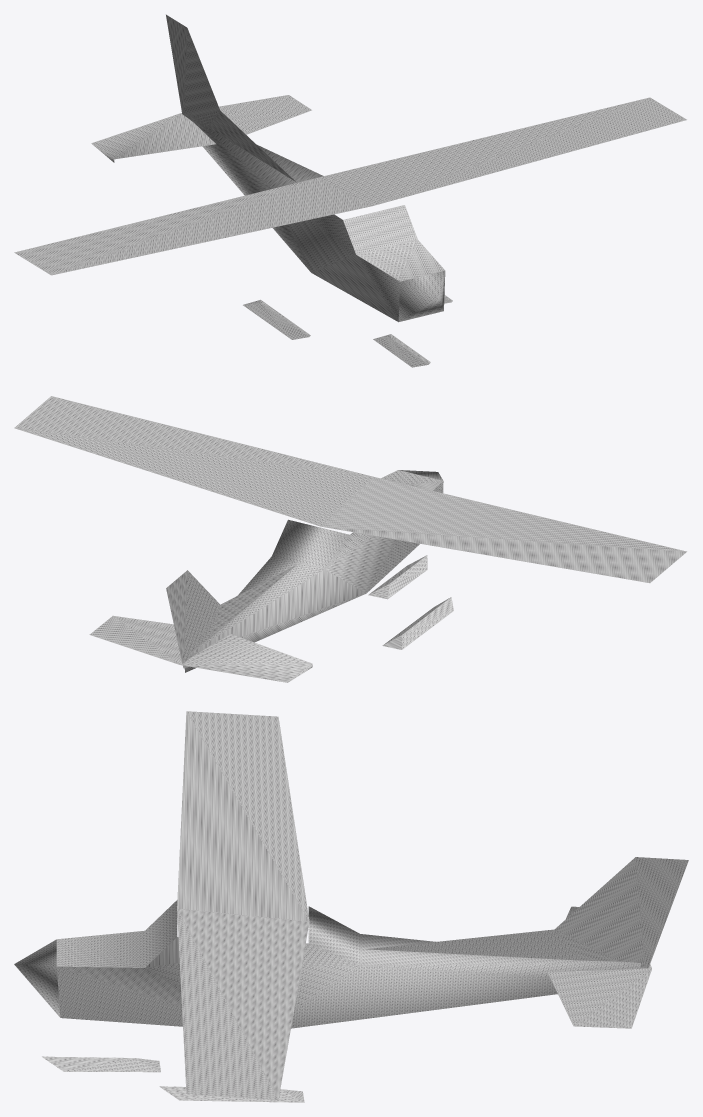
Rendered from Cessna172SP_LOD06.gltf.
The picture shows the model from 3 angles, top to bottom: view 1: azimuth 30°, elevation 25°; view 2: azimuth 150°, elevation 25°; view 3: azimuth 270°, elevation 25°; orthographic projection. The views are drawn at different scales.
Visible parts, largest first — view 1: Standard001, SkiFrontShort; view 2: Standard001, SkiFrontShort; view 3: Standard001, SkiFrontShort.
Part boxes in pixels (bbox=[...]): Standard001: bbox=[14, 14, 686, 322]; SkiFrontShort: bbox=[243, 295, 452, 367]; Standard001: bbox=[14, 396, 686, 682]; SkiFrontShort: bbox=[368, 555, 453, 649]; Standard001: bbox=[14, 711, 688, 1099]; SkiFrontShort: bbox=[42, 1056, 304, 1102].
Size of the model in its own units: 10.94 by 2.77 by 8.14.
